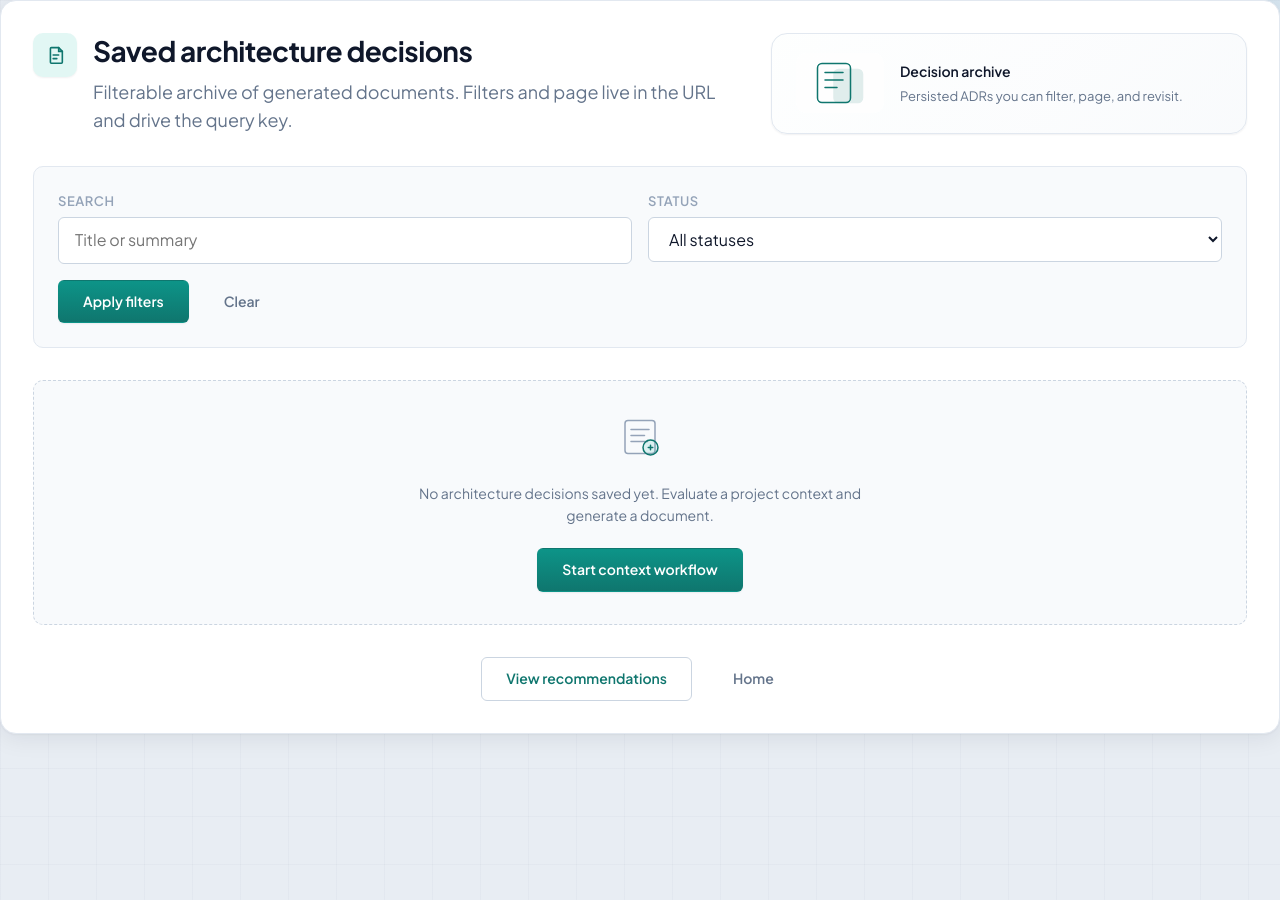
ArchitectureDecisionsPage › applies draft filters to the URL
Type "ECS" into the search field labelled "Search". click: (345, 240)
box: [58,217,632,264]
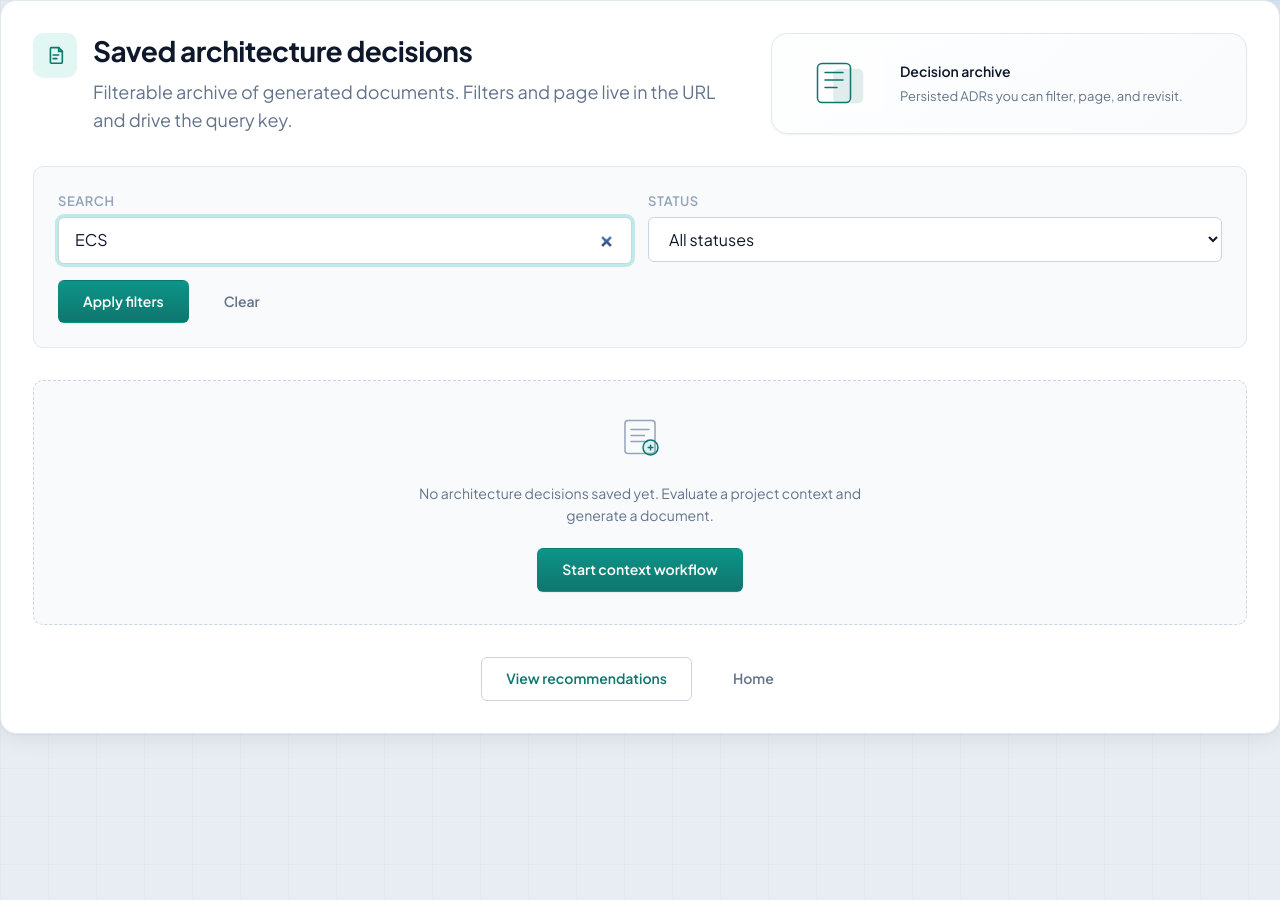
Select "proposed" in the dropdown labelled "Status". click: (935, 239)
box: [648,217,1222,262]
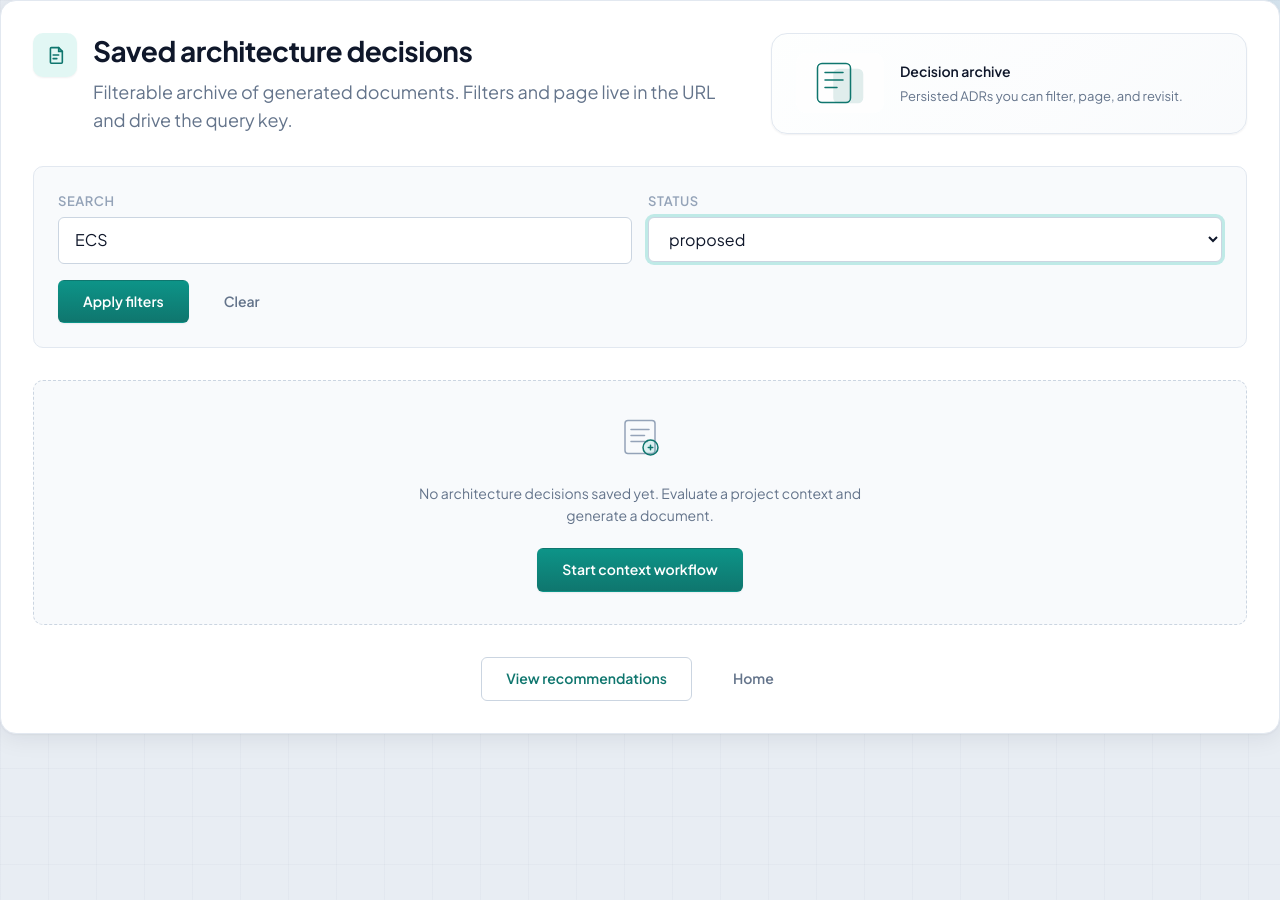
Click the button "Apply filters". click: (123, 302)
box: [58,280,189,323]
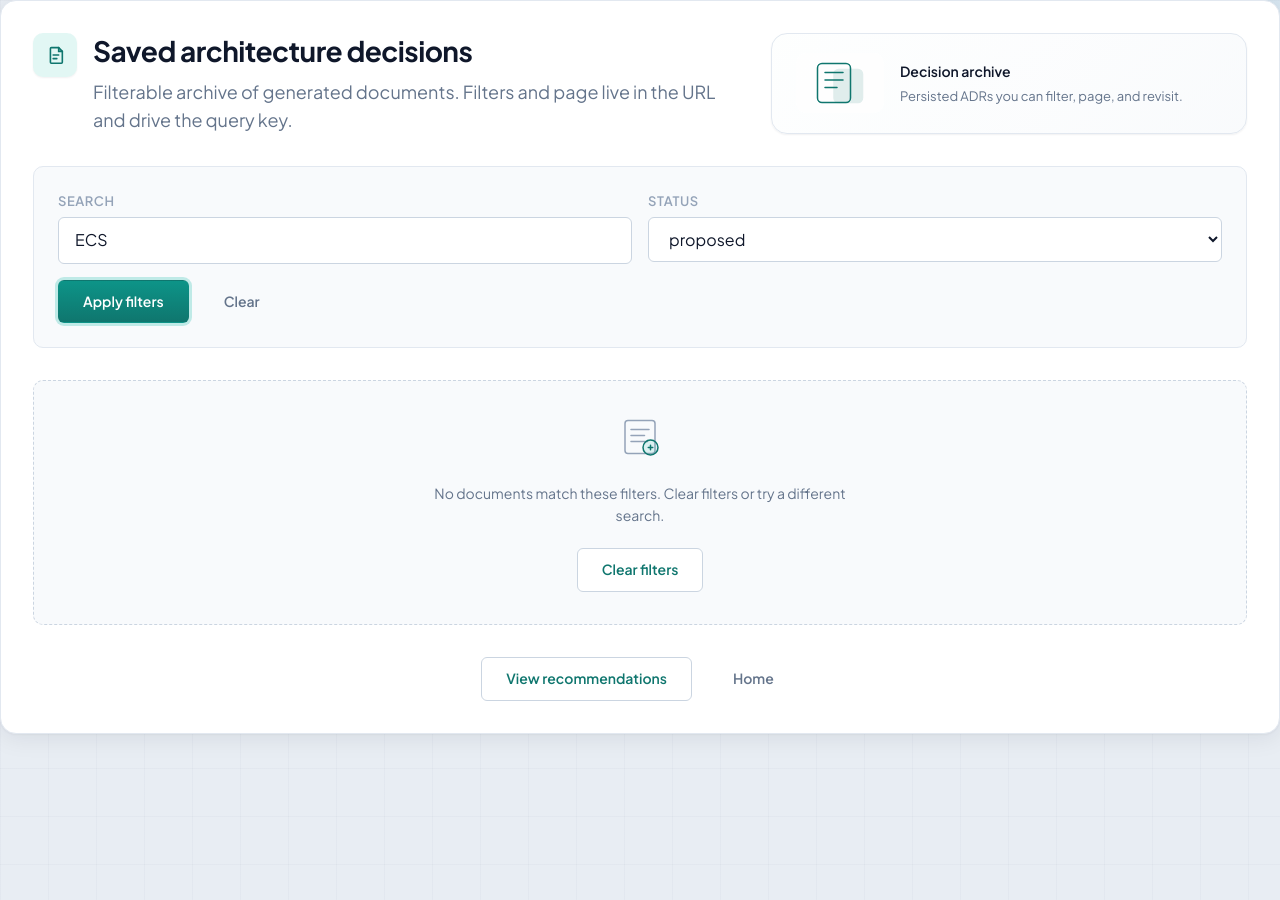
Check: the text "No documents match these filters" is shown, box [434,484,846,524]
